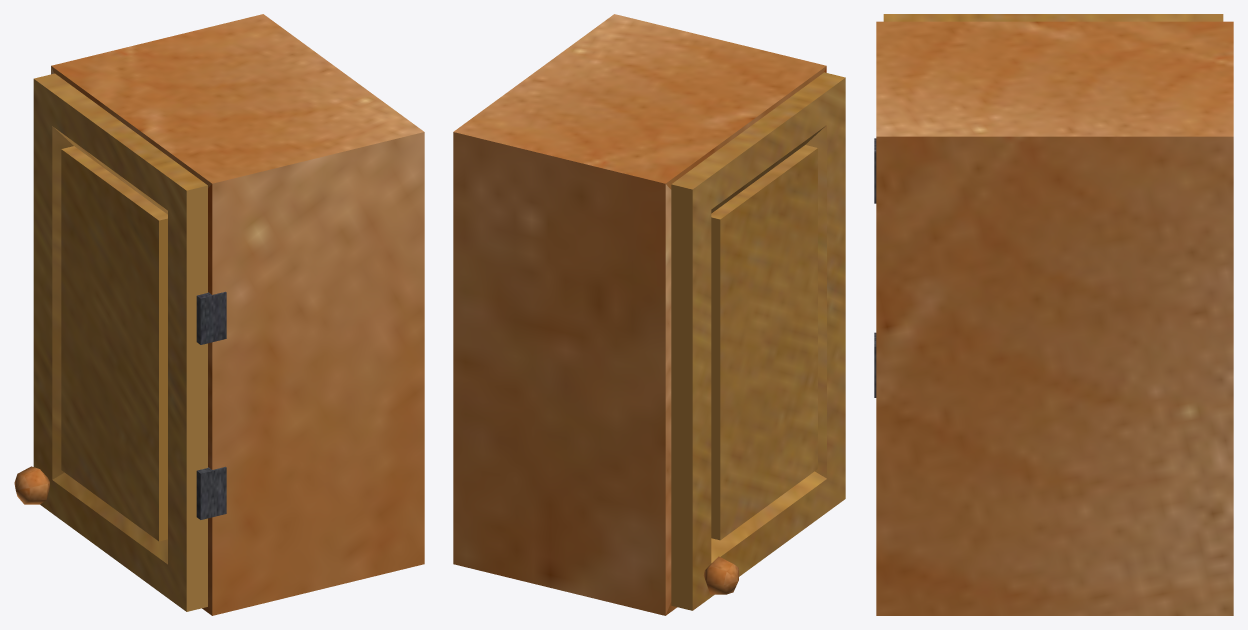
File: kitchen  wall store.FBX
The picture shows the model from 3 angles, left to right: view 1: azimuth 30°, elevation 25°; view 2: azimuth 150°, elevation 25°; view 3: azimuth 270°, elevation 25°; orthographic projection. The views are drawn at different scales.
Parts seen in each view (by area): view 1: Box001, Object003, Box002, Object002; view 2: Box001, Object003, Object002; view 3: Box001, Object003.
Part boxes in pixels (bbox=[...]): Box001: bbox=[51, 14, 424, 615]; Object003: bbox=[33, 73, 207, 611]; Box002: bbox=[196, 291, 226, 519]; Object002: bbox=[14, 466, 49, 504]; Box001: bbox=[453, 14, 826, 615]; Object003: bbox=[671, 72, 845, 610]; Object002: bbox=[703, 556, 738, 594]; Box001: bbox=[876, 21, 1233, 615]; Object003: bbox=[883, 14, 1223, 21].
Bounding box in the file's own units: 41.79 × 64.8 × 44.06.
4 materials, 4 textured.
